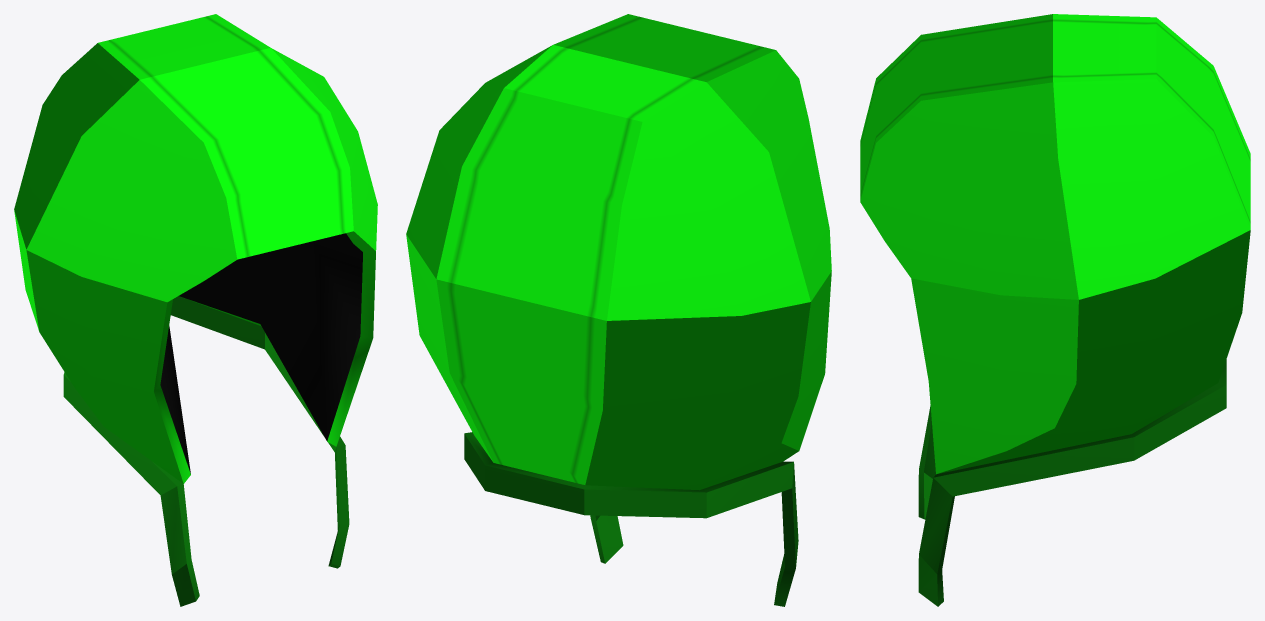
The picture shows the model from 3 angles, left to right: view 1: azimuth 30°, elevation 25°; view 2: azimuth 150°, elevation 25°; view 3: azimuth 270°, elevation 25°; orthographic projection. The views are drawn at different scales.
Visible parts, largest first — view 1: LeatherCoif_F; view 2: LeatherCoif_F; view 3: LeatherCoif_F.
Boxes of the visible parts, bbox=[...] form: LeatherCoif_F: bbox=[14, 14, 377, 606]; LeatherCoif_F: bbox=[406, 14, 831, 606]; LeatherCoif_F: bbox=[860, 14, 1250, 606].
Bounding box in the file's own units: 0.2343 × 0.3253 × 0.2224.
1 material, 1 textured.
